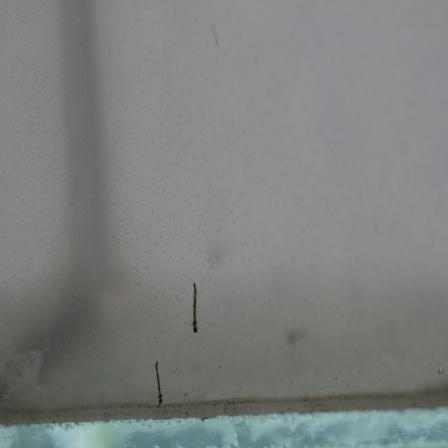Jentik-Nyamuk: (148, 358, 169, 408), (187, 276, 202, 337)
